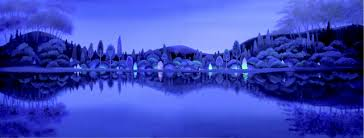lake: (8, 70, 364, 134)
mountain: (238, 32, 364, 86), (7, 30, 112, 72)
sky: (61, 4, 358, 53)
